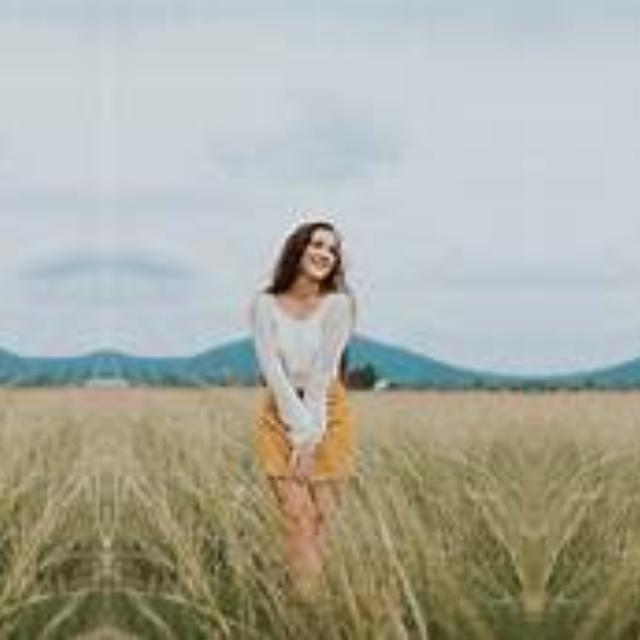person: (245, 206, 377, 590)
